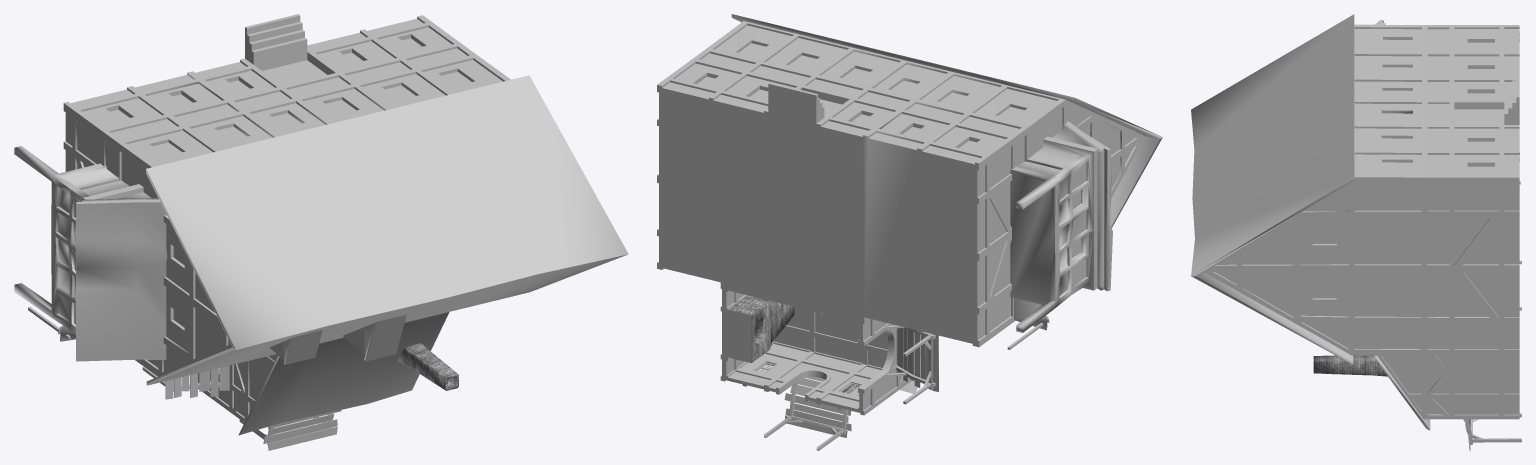
File: blacksmith_house.fbx
The picture shows the model from 3 angles, left to right: view 1: azimuth 30°, elevation 25°; view 2: azimuth 150°, elevation 25°; view 3: azimuth 270°, elevation 25°; orthographic projection. The views are drawn at different scales.
Visible parts, largest first — view 1: object; view 2: object; view 3: object.
Part boxes in pixels (x1,y1,x2,y2): object: (14,14,628,450); object: (657,14,1162,450); object: (1191,14,1521,450).
Size of the model in its own units: 645 by 556 by 477.
